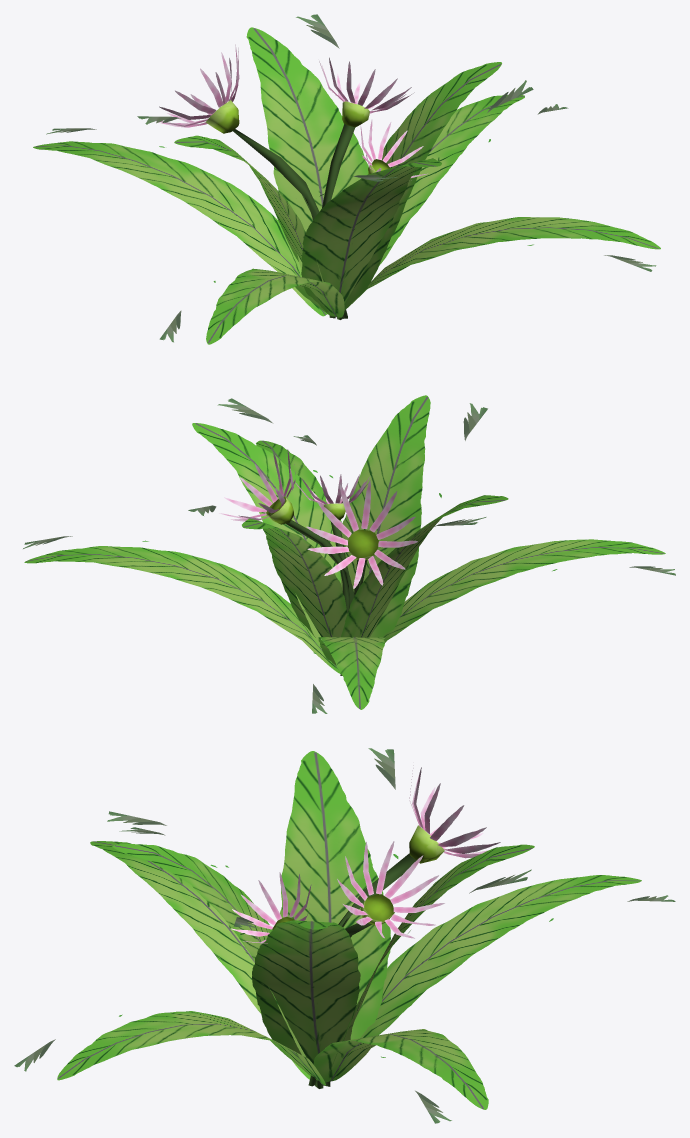
The model's file is FlowerFern1.fbx.
3 views of the same model, one above another, from view 1: azimuth 30°, elevation 25°; view 2: azimuth 150°, elevation 25°; view 3: azimuth 270°, elevation 25° (orthographic). The views are drawn at different scales.
Parts seen in each view (by area): view 1: leaf.007, leaf.006, leaf.002, leaf.004, leaf.003, leaf, leaf.005, leaf.001, petal, petal.001, stem.001, stem.002 (+3 smaller); view 2: leaf.002, leaf.005, leaf, leaf.004, leaf.007, leaf.001, leaf.006, petal, petal.001, leaf.003, base.001, stem.002 (+1 smaller); view 3: leaf.001, leaf.004, leaf.006, leaf.005, leaf.003, leaf, leaf.002, leaf.007, petal.001, petal, petal.002, base.001 (+2 smaller).
Boxes of the visible parts, left/top/right/bottom form: leaf.007: left=246, top=14, right=368, bottom=269; leaf.006: left=33, top=128, right=327, bottom=316; leaf.002: left=301, top=158, right=441, bottom=312; leaf.004: left=344, top=62, right=533, bottom=309; leaf.003: left=345, top=217, right=660, bottom=309; leaf: left=159, top=268, right=344, bottom=344; leaf.005: left=379, top=95, right=568, bottom=265; leaf.001: left=137, top=116, right=323, bottom=281; petal: left=155, top=44, right=239, bottom=127; petal.001: left=319, top=57, right=414, bottom=113; stem.001: left=232, top=129, right=342, bottom=319; stem.002: left=322, top=124, right=355, bottom=318; leaf.002: left=340, top=395, right=487, bottom=637; leaf.005: left=23, top=536, right=340, bottom=673; leaf: left=382, top=539, right=675, bottom=642; leaf.004: left=192, top=398, right=340, bottom=645; leaf.007: left=188, top=505, right=350, bottom=637; leaf.001: left=341, top=495, right=508, bottom=637; leaf.006: left=312, top=637, right=384, bottom=713; petal: left=306, top=480, right=417, bottom=588; petal.001: left=219, top=449, right=295, bottom=521; leaf.003: left=256, top=435, right=341, bottom=522; base.001: left=347, top=529, right=378, bottom=559; stem.002: left=286, top=520, right=354, bottom=675; leaf.001: left=280, top=748, right=398, bottom=1039; leaf.004: left=233, top=917, right=360, bottom=1064; leaf.006: left=360, top=875, right=675, bottom=1038; leaf.005: left=313, top=1029, right=488, bottom=1123; leaf.003: left=14, top=1011, right=325, bottom=1085; leaf: left=90, top=827, right=310, bottom=1079; leaf.002: left=107, top=811, right=306, bottom=1057; leaf.007: left=328, top=844, right=534, bottom=1077; petal.001: left=337, top=841, right=444, bottom=938; petal: left=409, top=765, right=500, bottom=858; petal.002: left=231, top=872, right=311, bottom=943; base.001: left=409, top=825, right=444, bottom=863.
Bounding box in the file's own units: 194 × 88.98 × 183.
